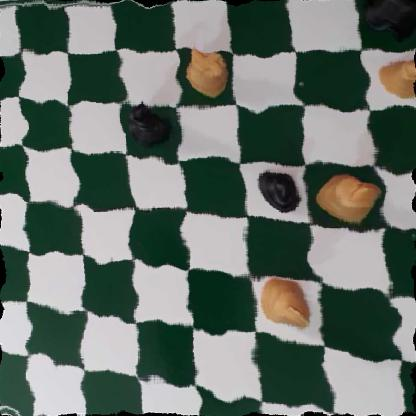black-king: (128, 101, 179, 152)
black-pawn: (252, 167, 304, 215)
black-rook: (357, 0, 416, 35)
white-bishop: (318, 175, 379, 224)
white-king: (251, 272, 316, 337)
white-pawn: (374, 54, 416, 100)
white-rook: (181, 47, 229, 96)
